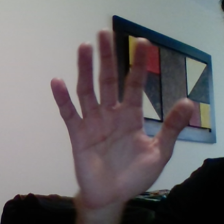left: (41, 21, 201, 199)
